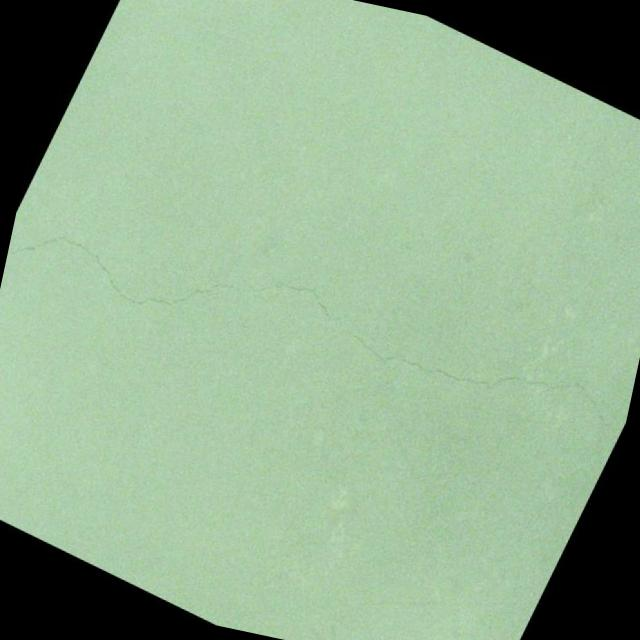crack: (322, 277, 640, 473), (0, 181, 263, 362), (230, 256, 368, 342)
